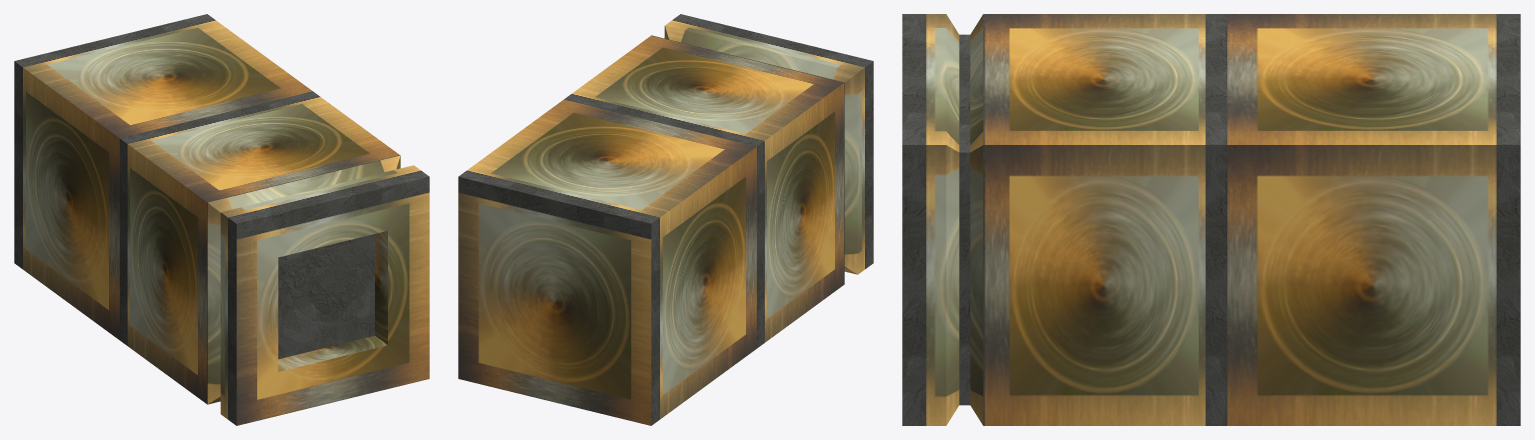
The picture shows the model from 3 angles, left to right: view 1: azimuth 30°, elevation 25°; view 2: azimuth 150°, elevation 25°; view 3: azimuth 270°, elevation 25°; orthographic projection. The views are drawn at different scales.
Visible parts, largest first — view 1: Cube_Cube_None_QuartoPieces.png; view 2: Cube_Cube_None_QuartoPieces.png; view 3: Cube_Cube_None_QuartoPieces.png.
Boxes of the visible parts, x1=… form: Cube_Cube_None_QuartoPieces.png: x1=14, y1=14, x2=429, y2=425; Cube_Cube_None_QuartoPieces.png: x1=458, y1=14, x2=873, y2=425; Cube_Cube_None_QuartoPieces.png: x1=902, y1=14, x2=1520, y2=425.
Bounding box in the file's own units: 2 × 2 × 3.99.
